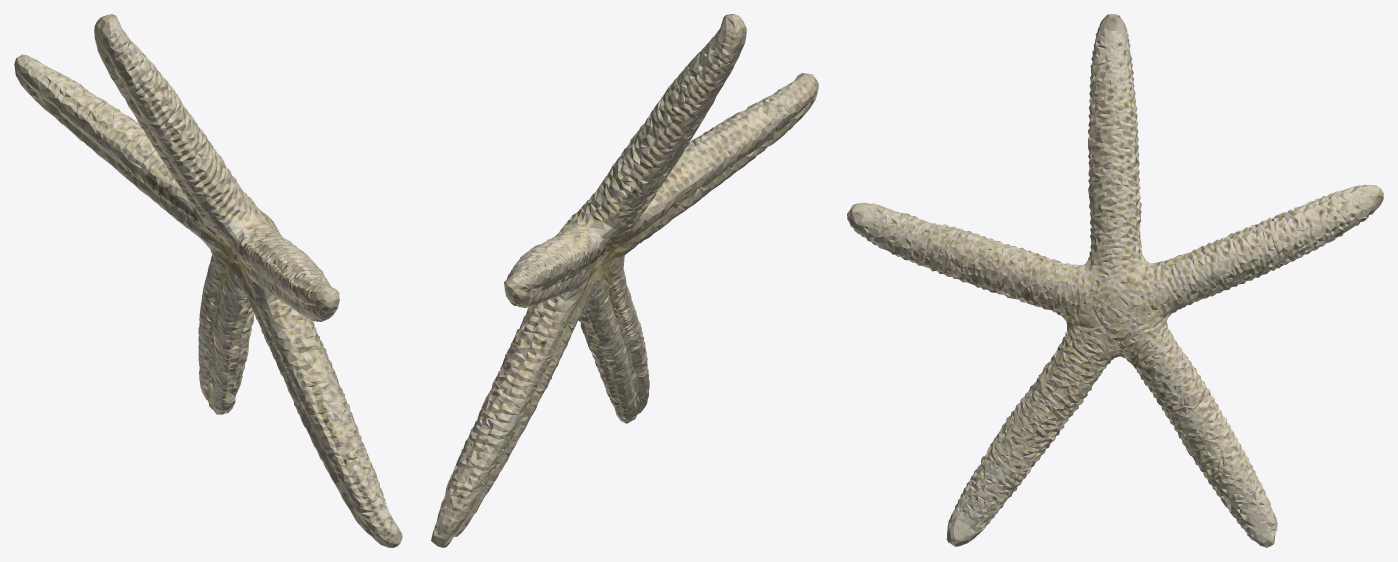
The model's file is star.glb.
The picture shows the model from 3 angles, left to right: view 1: azimuth 30°, elevation 25°; view 2: azimuth 150°, elevation 25°; view 3: azimuth 270°, elevation 25°; orthographic projection. The views are drawn at different scales.
Parts seen in each view (by area): view 1: Object_2; view 2: Object_2; view 3: Object_2.
Part boxes in pixels (<box>): Object_2: <box>14,14,402,547</box>; Object_2: <box>431,14,818,547</box>; Object_2: <box>847,14,1383,547</box>.
Bounding box in the file's own units: 60.63 × 135 × 147.
Materials: 1 (1 with a texture image).
